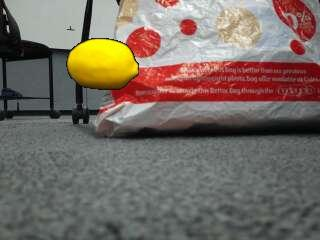lemon: (68, 40, 138, 90)
